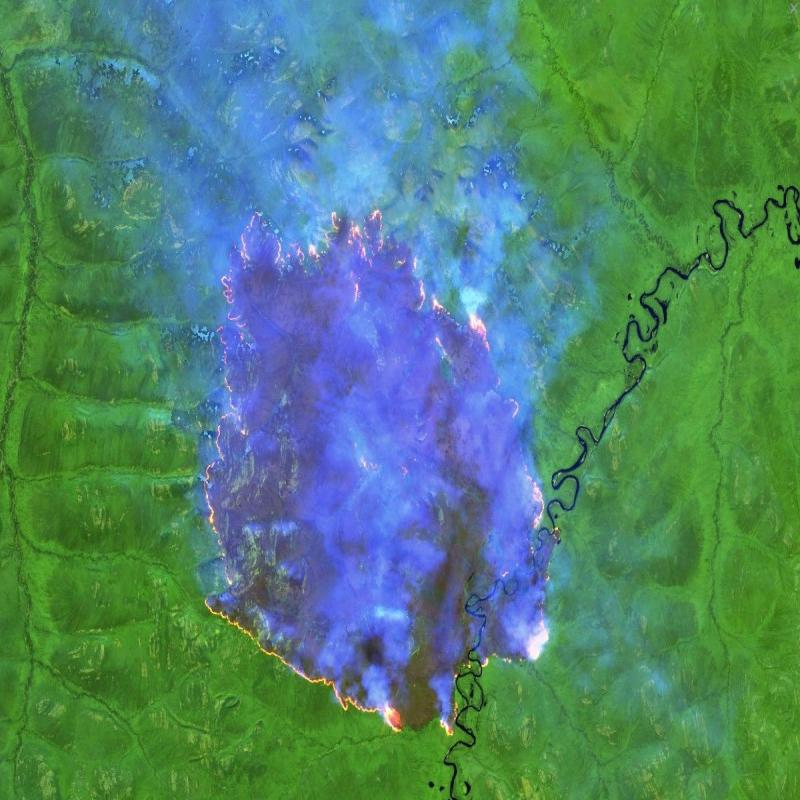fire: (181, 190, 566, 744)
